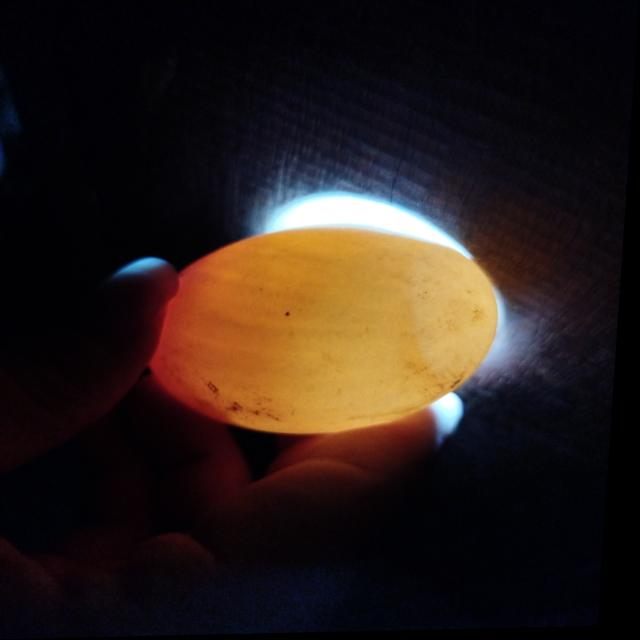Camara de Ar: (415, 248, 504, 382)
Gema Quebrada: (157, 244, 246, 429)
